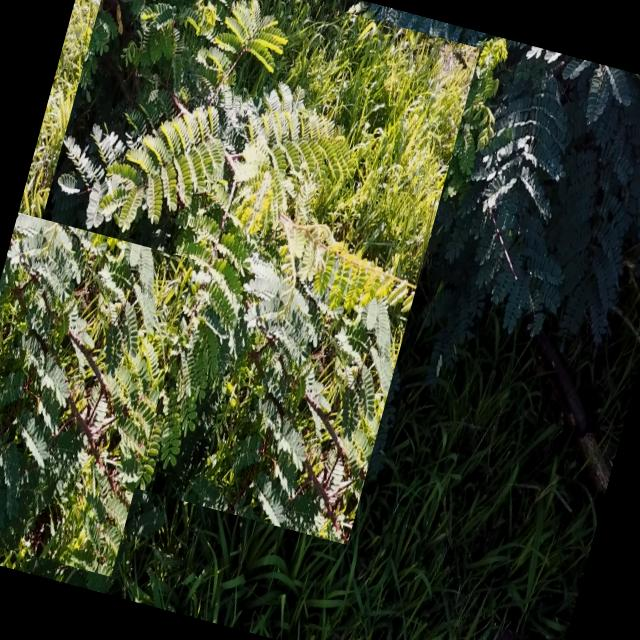Mysore-Thorn-Weed: (0, 0, 480, 544), (284, 0, 640, 377), (0, 212, 195, 577)
